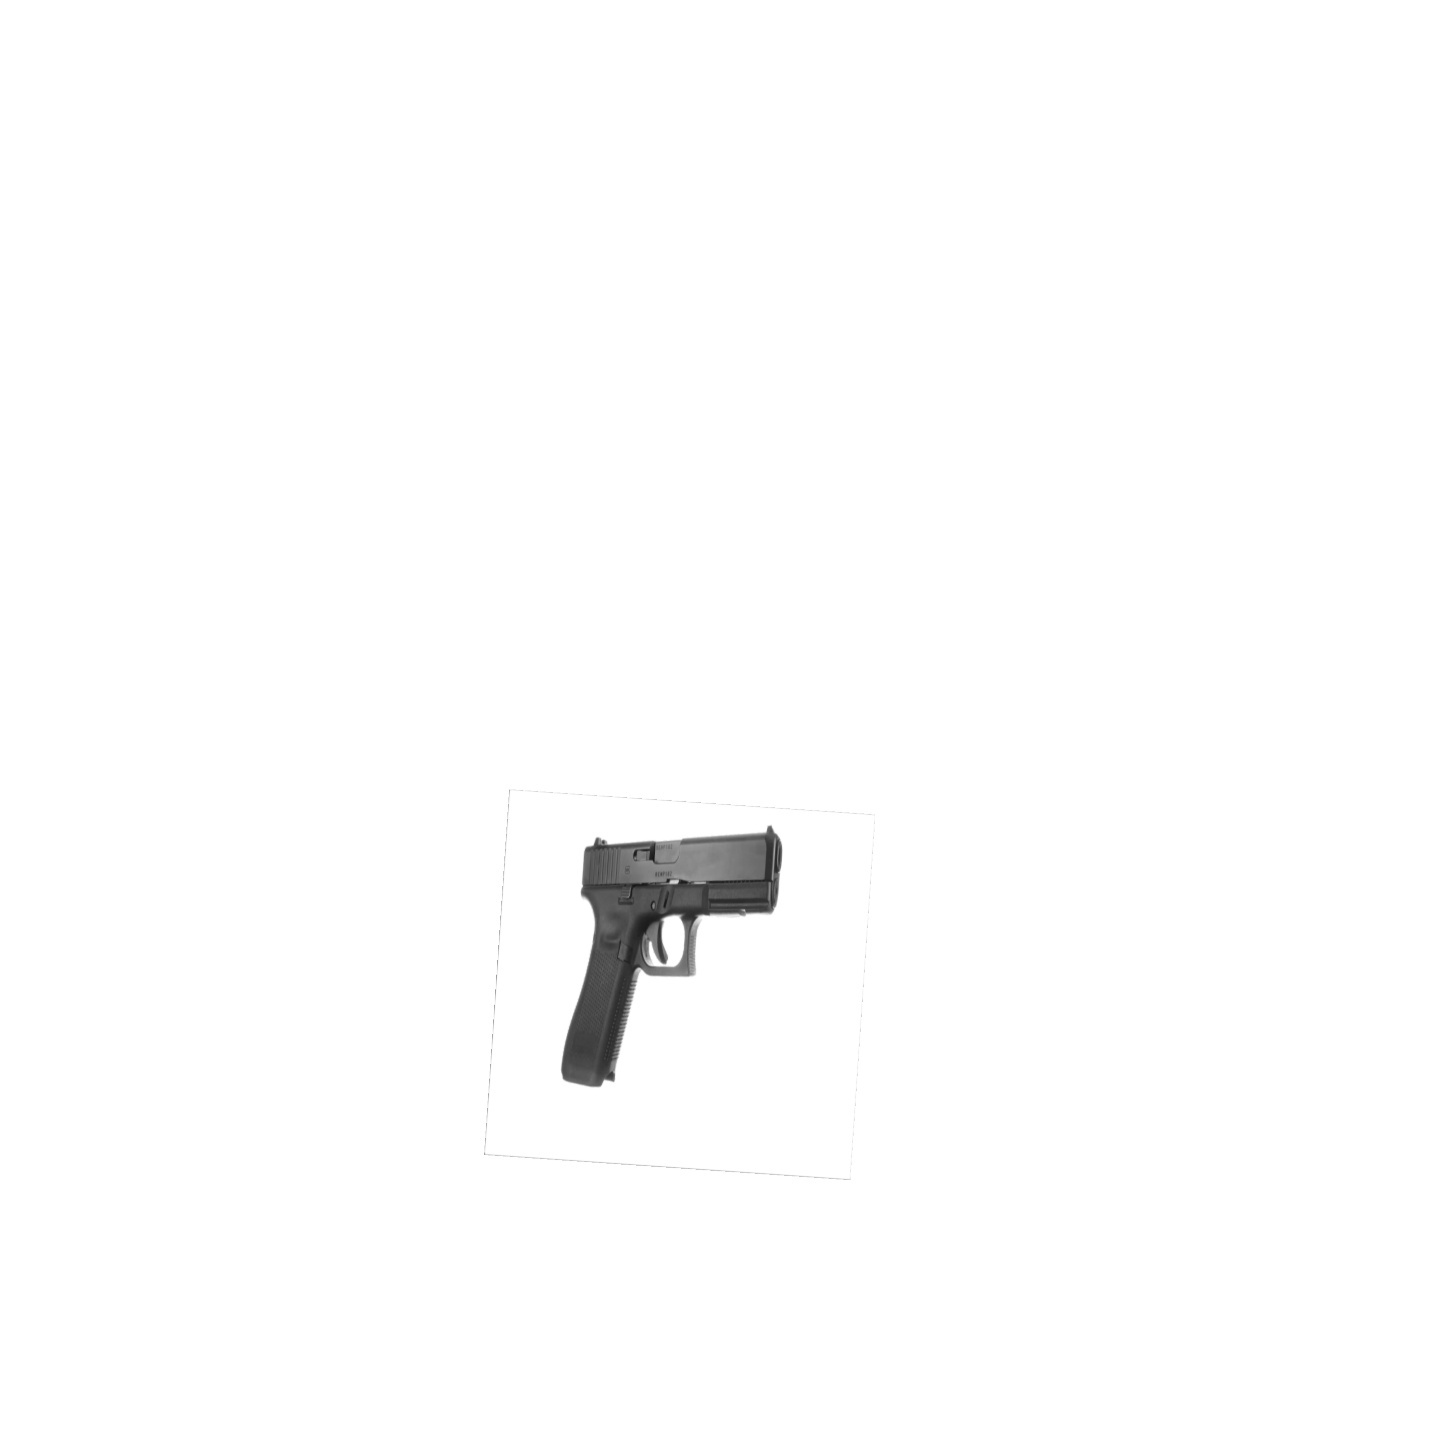gun: (561, 824, 784, 1088)
